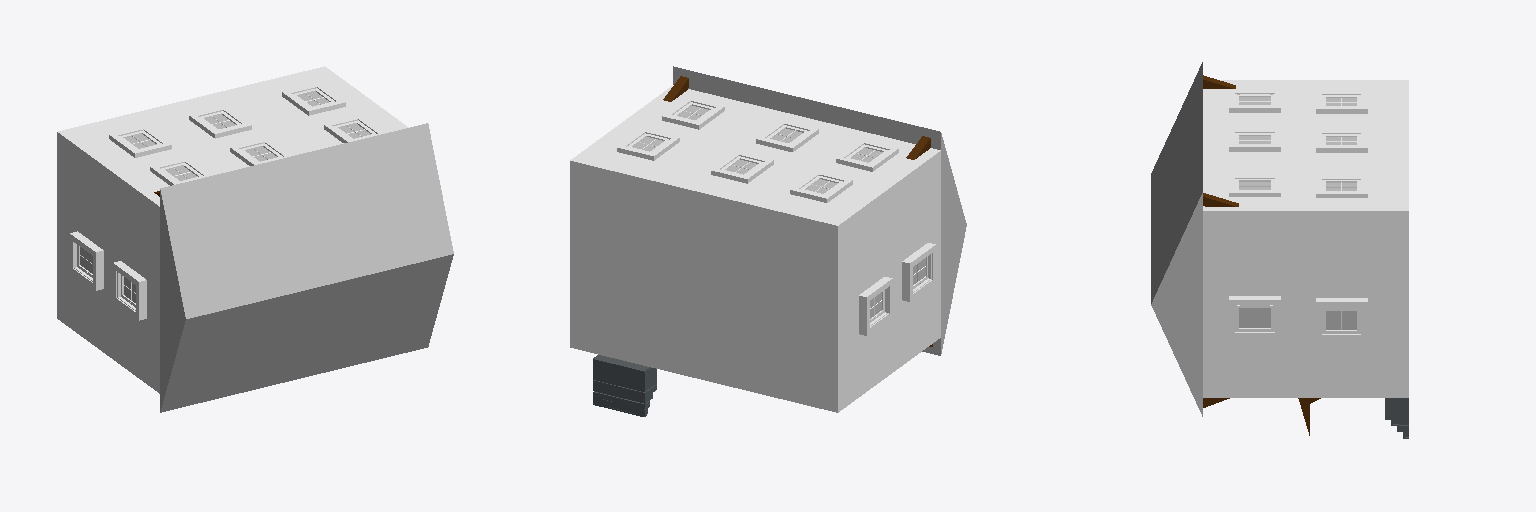
Rendered from tinker 18.obj.
The picture shows the model from 3 angles: view 1: azimuth 30°, elevation 25°; view 2: azimuth 150°, elevation 25°; view 3: azimuth 270°, elevation 25°; orthographic projection.
Parts seen in each view (by area): view 1: obj_1, obj_0, obj_30, obj_29, obj_26, obj_24, obj_25, obj_22, obj_23, obj_21; view 2: obj_0, obj_1, obj_11, obj_29, obj_30, obj_23, obj_26, obj_21, obj_22, obj_25, obj_24; view 3: obj_0, obj_1, obj_27, obj_28, obj_22, obj_23, obj_24, obj_25, obj_21, obj_26.
Part boxes in pixels (x1,y1,x2,y2): obj_1: (160, 123, 453, 412); obj_0: (57, 66, 408, 393); obj_30: (113, 261, 146, 320); obj_29: (70, 231, 103, 290); obj_26: (282, 83, 345, 115); obj_24: (109, 126, 171, 157); obj_25: (189, 106, 251, 138); obj_22: (230, 138, 290, 165); obj_23: (150, 158, 210, 185); obj_21: (324, 116, 384, 142); obj_0: (570, 85, 940, 412); obj_1: (673, 66, 966, 355); obj_11: (593, 355, 656, 391); obj_29: (859, 277, 892, 335); obj_30: (902, 243, 935, 301); obj_23: (836, 140, 898, 171); obj_26: (617, 128, 679, 160); obj_21: (662, 97, 724, 129); obj_22: (756, 120, 818, 151); obj_25: (711, 151, 773, 183); obj_24: (790, 171, 852, 202); obj_0: (1203, 80, 1408, 397); obj_1: (1151, 62, 1202, 416); obj_27: (1316, 298, 1367, 340); obj_28: (1229, 296, 1280, 337); obj_22: (1229, 129, 1280, 151); obj_23: (1229, 90, 1280, 112); obj_24: (1316, 91, 1367, 113); obj_25: (1316, 130, 1367, 152); obj_21: (1229, 175, 1280, 196); obj_26: (1316, 176, 1367, 197).
Bounding box in the file's own units: 31.9 × 27.53 × 25.